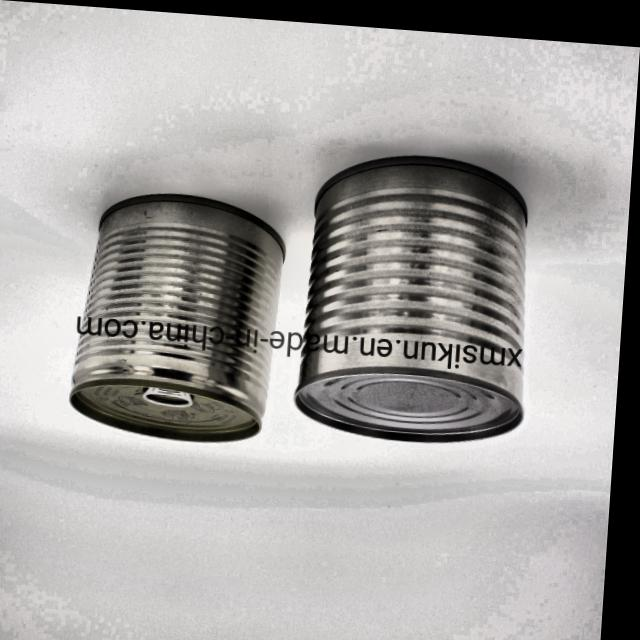can: (294, 141, 546, 446), (69, 181, 295, 447)
